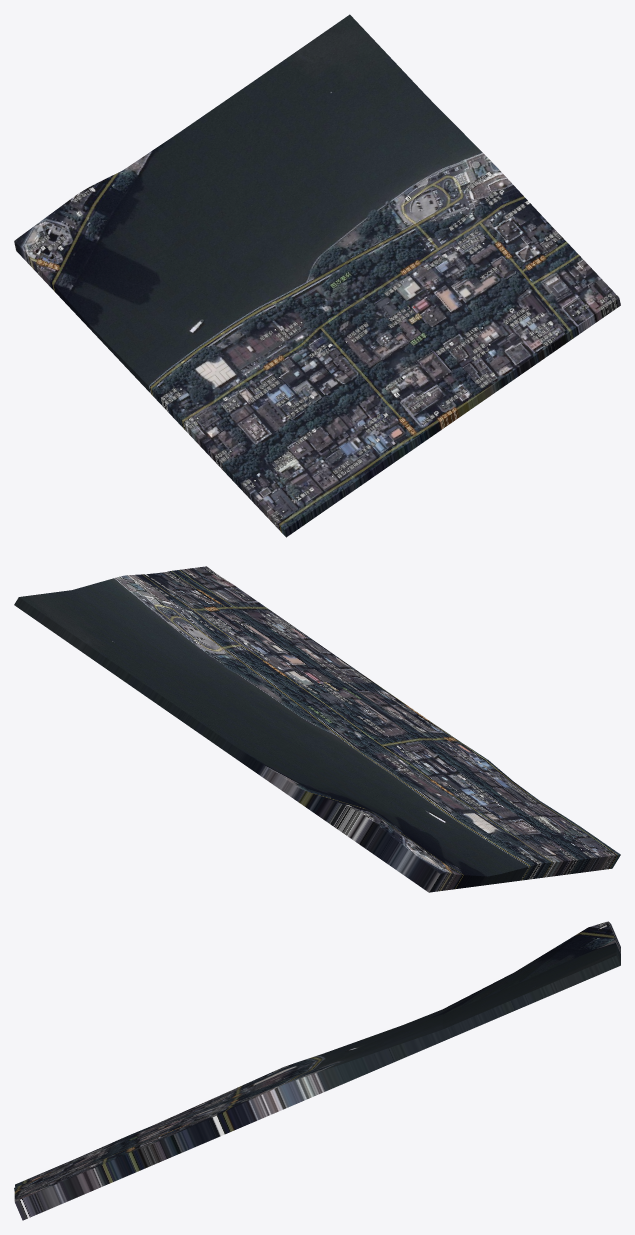
3 renders of one model, top to bottom at view 1: azimuth 30°, elevation 25°; view 2: azimuth 150°, elevation 25°; view 3: azimuth 270°, elevation 25°, orthographic. The views are drawn at different scales.
Parts seen in each view (by area): view 1: 0_13_7; view 2: 0_13_7; view 3: 0_13_7.
Boxes of the visible parts, x1,y1,x2,y2 form: 0_13_7: [14, 14, 620, 537]; 0_13_7: [14, 566, 620, 892]; 0_13_7: [14, 921, 620, 1220].
Size of the model in its own units: 601 by 436 by 550.
1 material, 1 textured.
